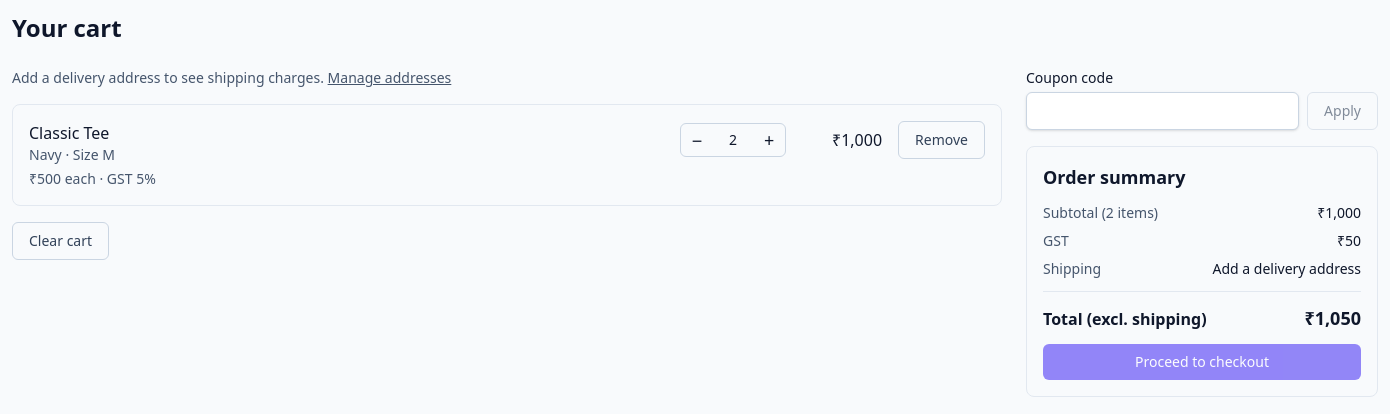
CartPage › changes the quantity and shows the new totals
Click the button named "Increase quantity of Classic Tee" at {"x": 769, "y": 140}, box [753,124,785,156]
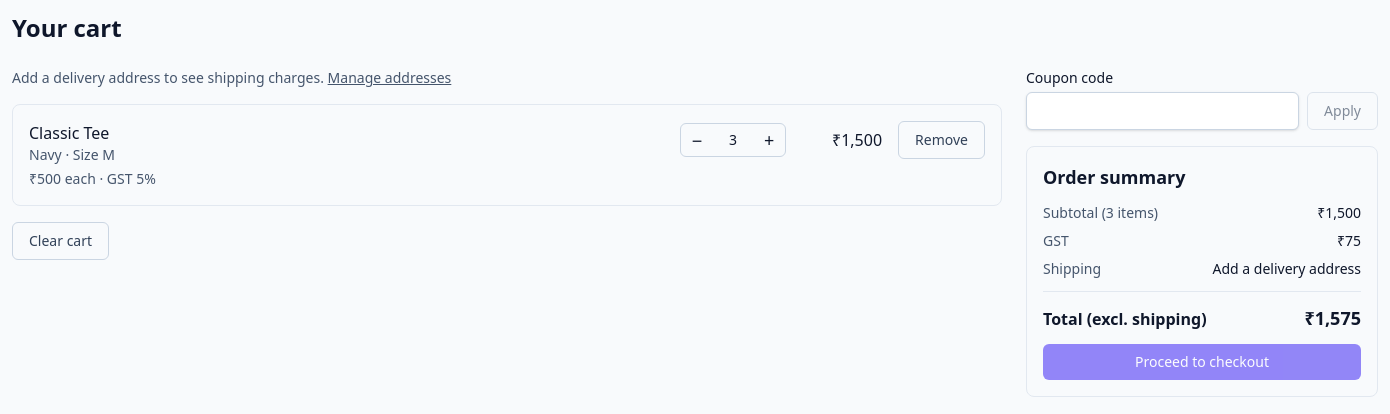
Result: the text with test id "total" reads "₹1,575" at [1304,306,1361,330]
Result: the text "3" is shown at [729,130,737,149]
